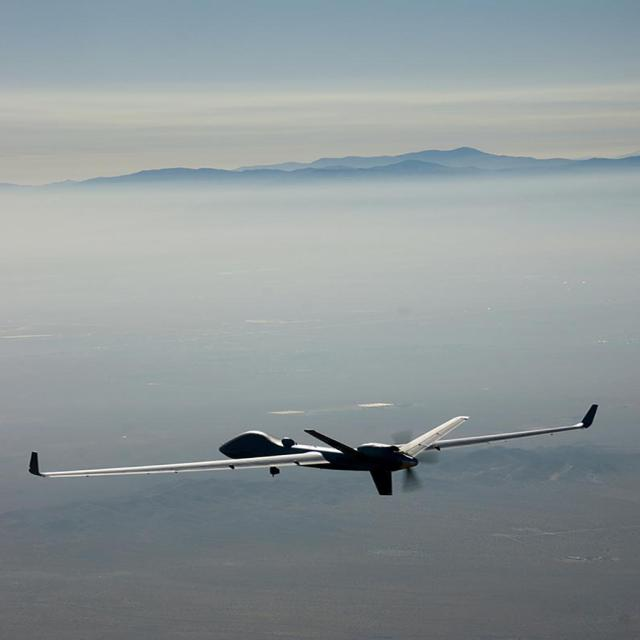MIL_Plane: (28, 404, 598, 496)
